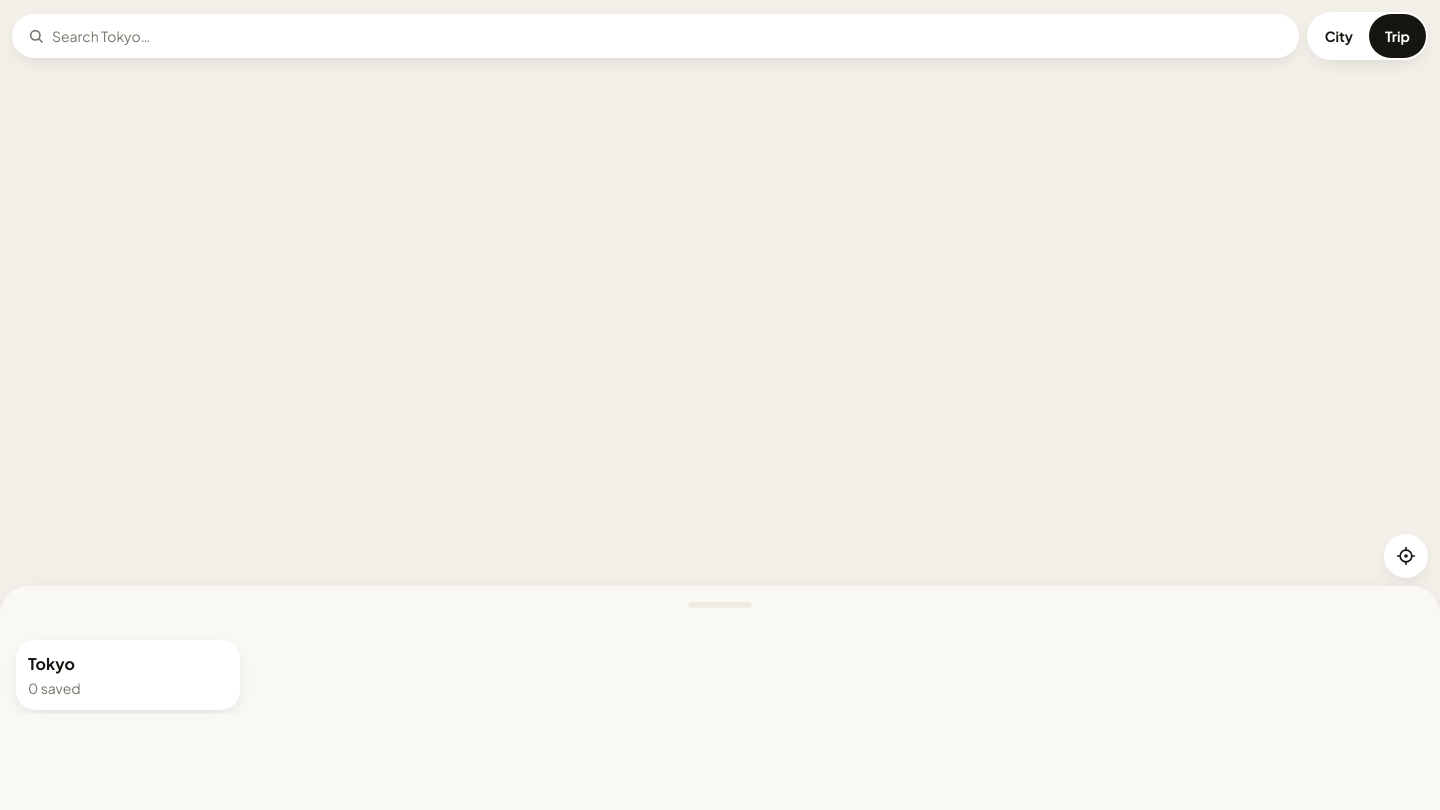
the zone map › offers a chip only for a category present in the view (FR-010)
The width and height of the screenshot is (1440, 810).
Click the button "City". click: (1339, 36)
box: [1309,14,1369,58]
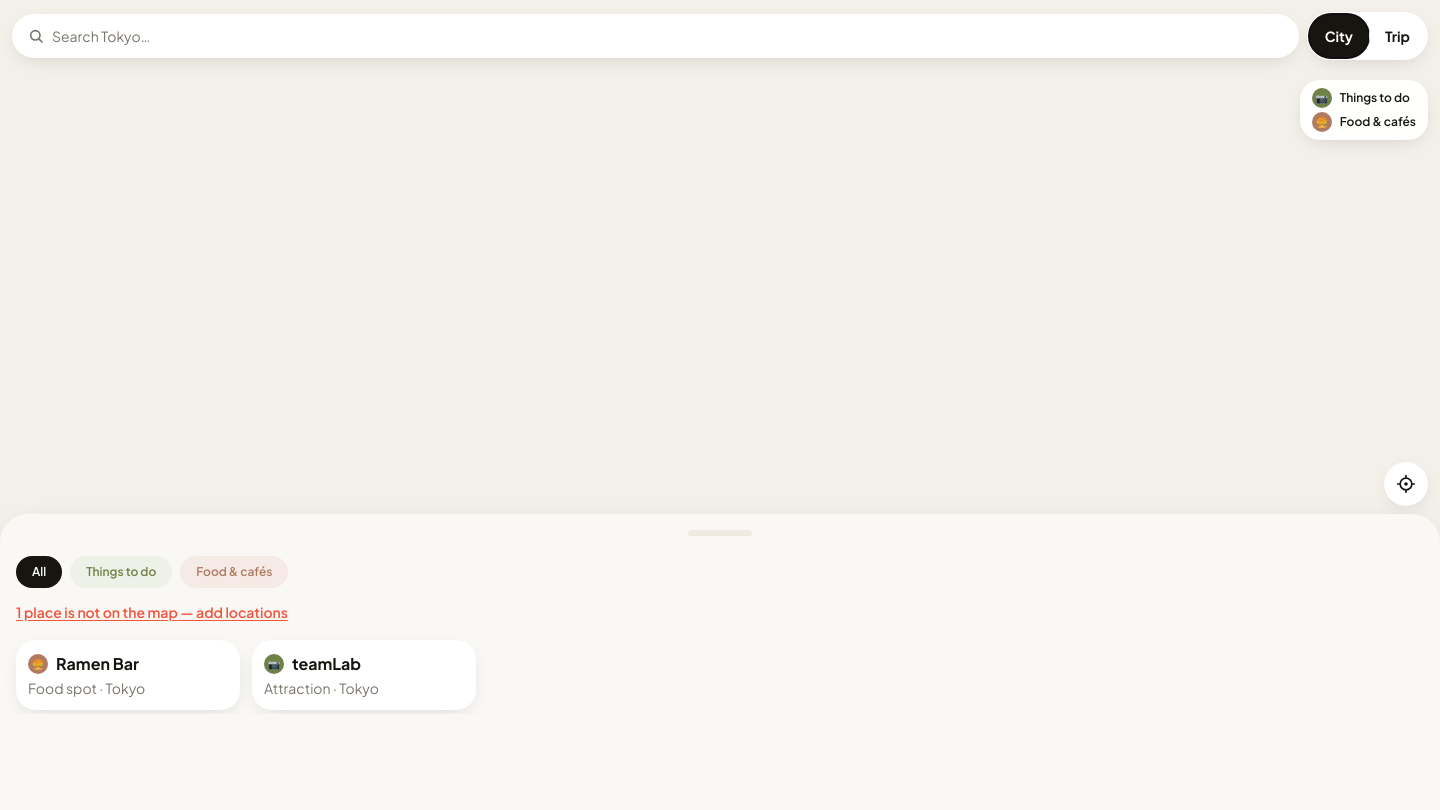
Expected: the button "Food & cafés" is shown, [180,556,288,588]
Expected: the button "Things to do" is shown, [70,556,172,588]
